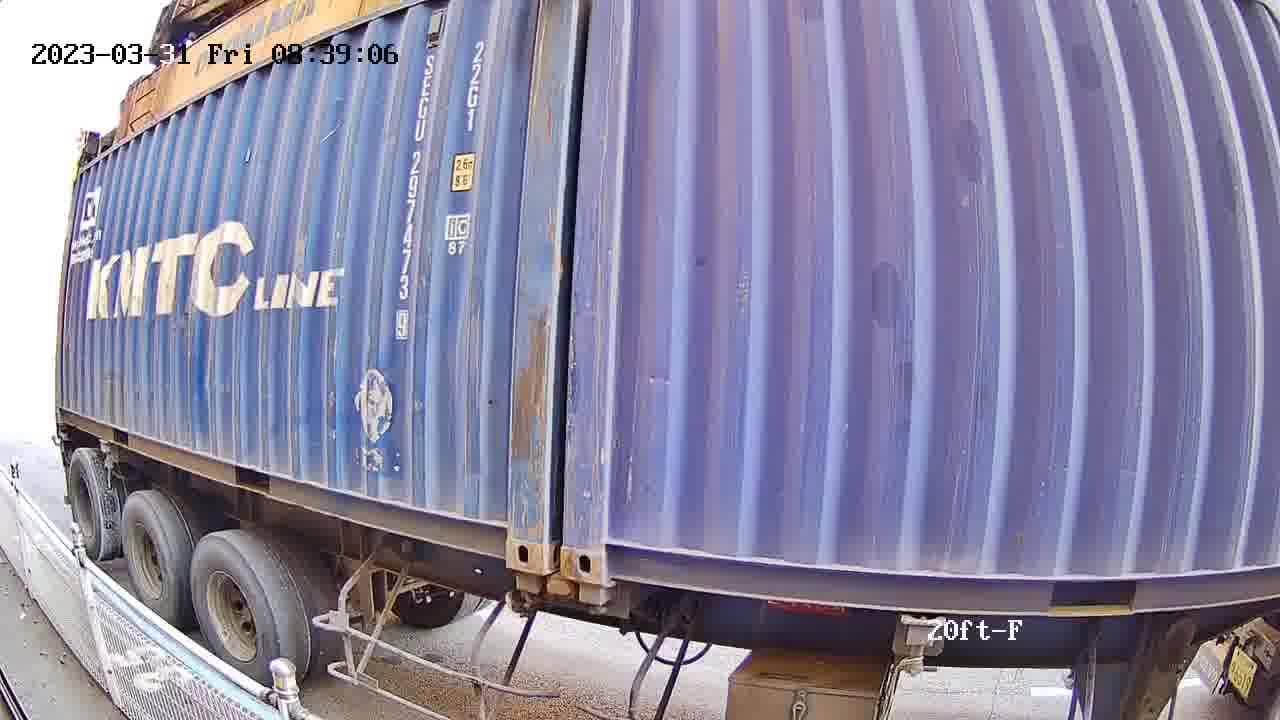Cone: (508, 569, 544, 611), (570, 582, 613, 617)
Hole_L: (561, 504, 647, 588)
Hole_R: (465, 489, 547, 575)
Tire: (190, 538, 280, 686), (123, 494, 178, 620), (66, 453, 105, 558)
